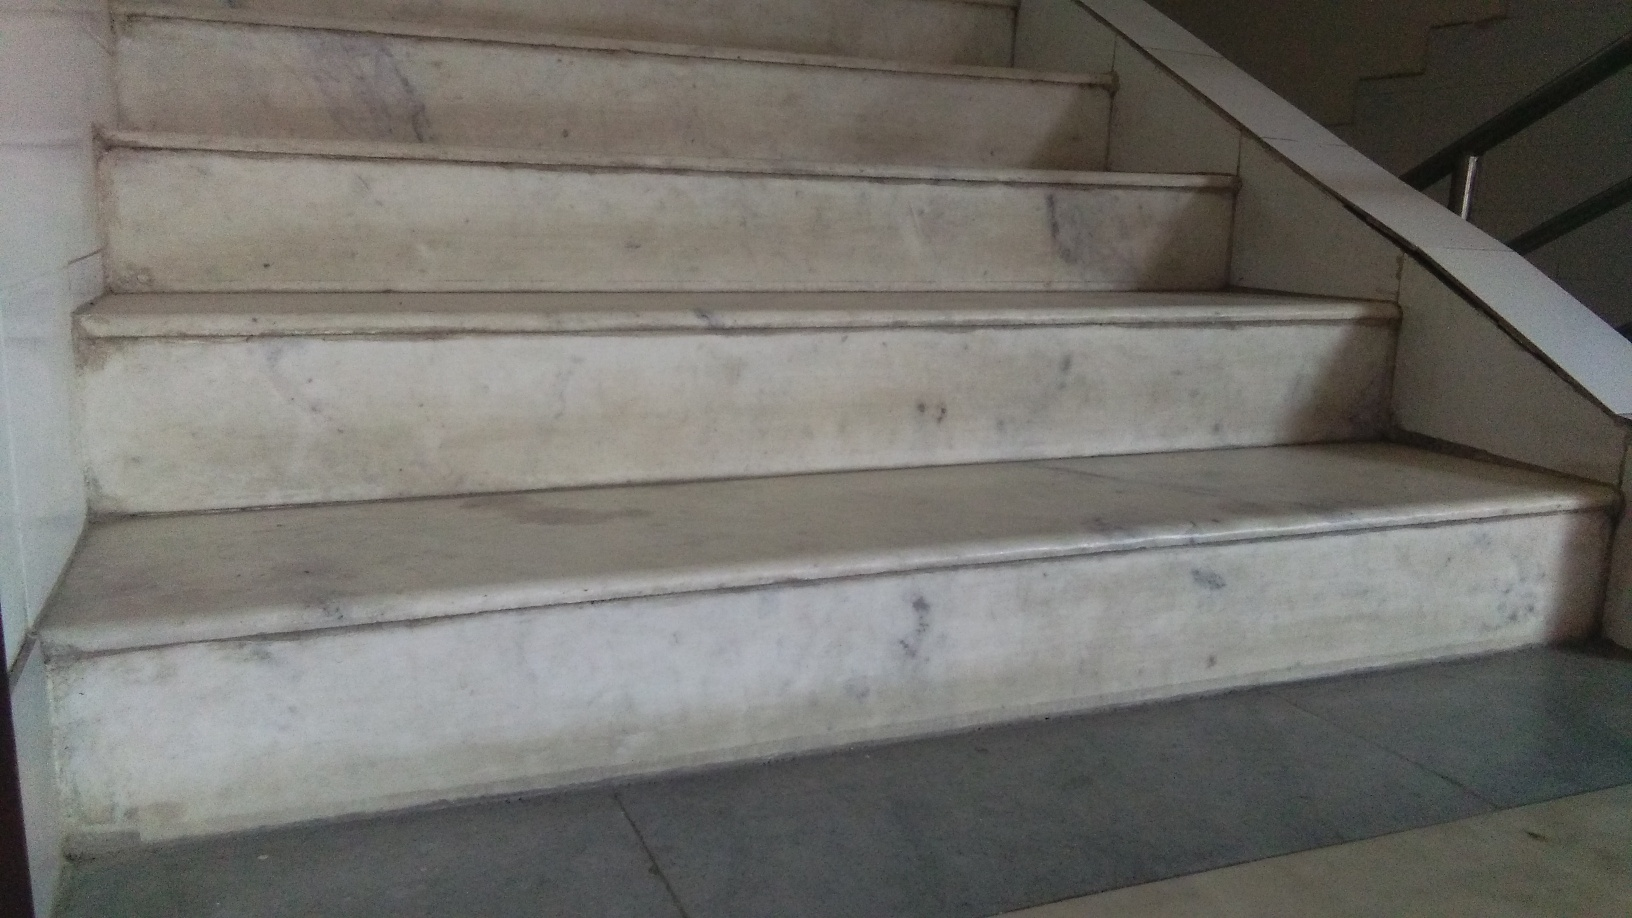stairs_up: (62, 3, 1630, 736)
